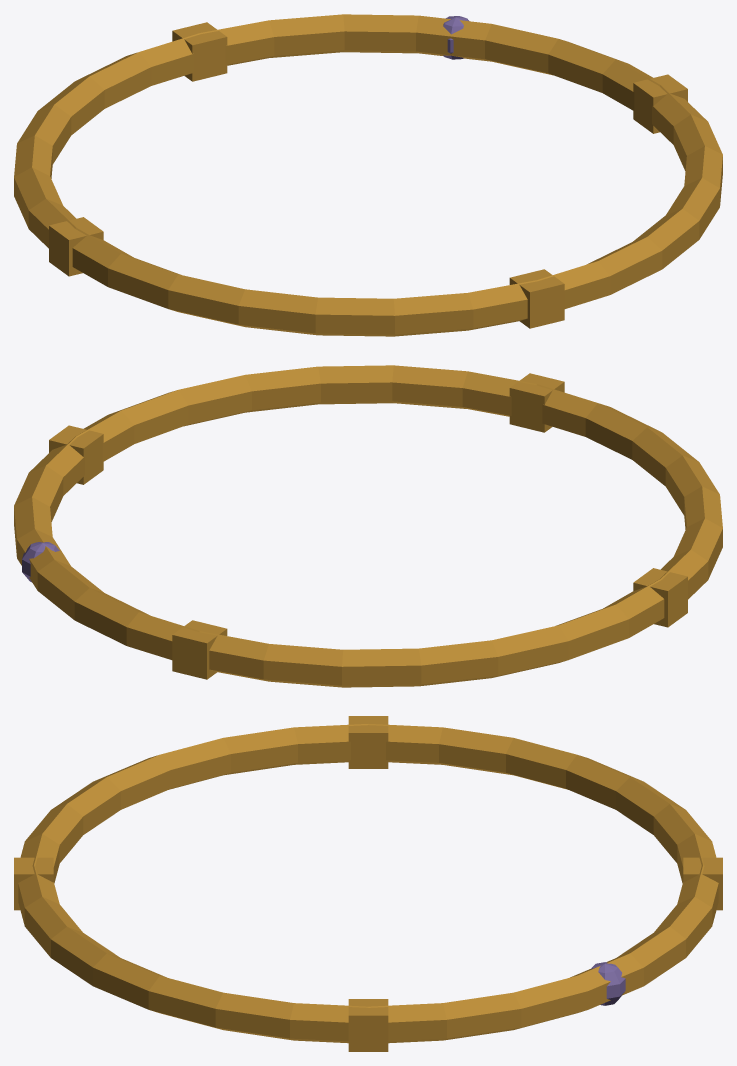
The model's file is LairCenturyDialRing2.fbx.
3 renders of one model, top to bottom at view 1: azimuth 30°, elevation 25°; view 2: azimuth 150°, elevation 25°; view 3: azimuth 270°, elevation 25°, orthographic.
Parts seen in each view (by area): view 1: LairCenturyDialRing2; view 2: LairCenturyDialRing2; view 3: LairCenturyDialRing2.
Boxes of the visible parts, left/top/right/bottom form: LairCenturyDialRing2: left=14, top=14, right=722, bottom=336; LairCenturyDialRing2: left=14, top=365, right=722, bottom=687; LairCenturyDialRing2: left=14, top=716, right=722, bottom=1051.
Bounding box in the file's own units: 89 × 5.6 × 89.
2 materials, 2 textured.
